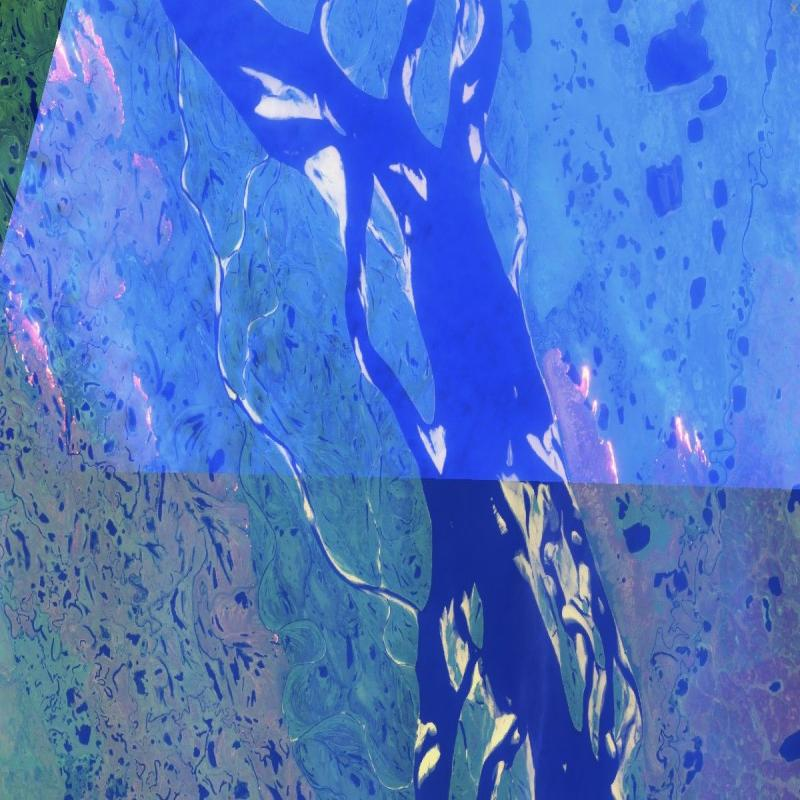fire: (0, 288, 69, 436)
